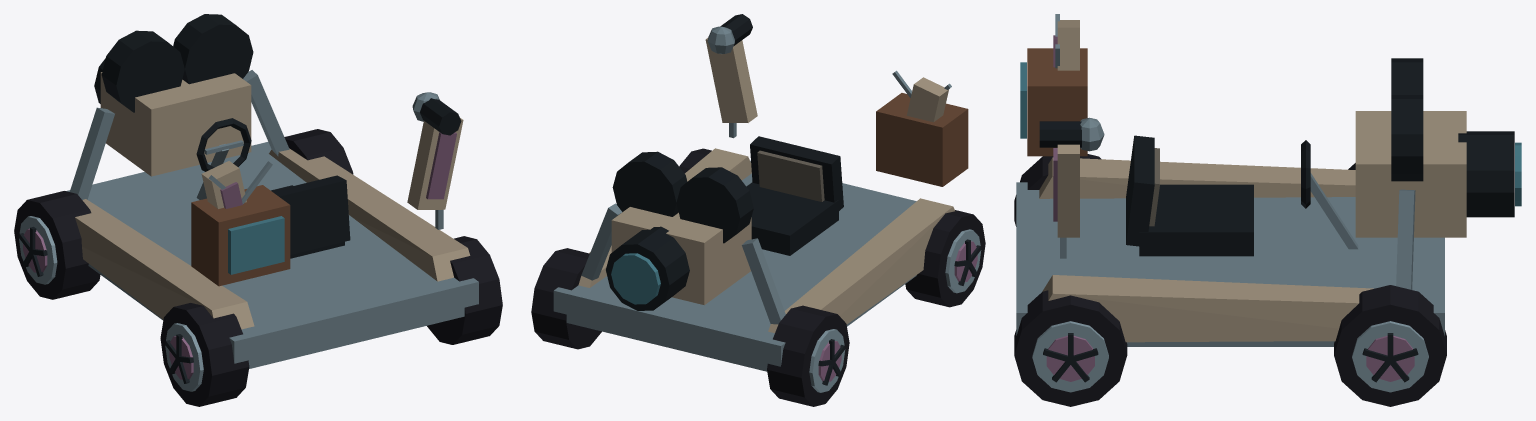
File: kart.glb
3 views of the same model, side by side, from view 1: azimuth 30°, elevation 25°; view 2: azimuth 150°, elevation 25°; view 3: azimuth 270°, elevation 25° (orthographic). The views are drawn at different scales.
Visible parts, largest first — view 1: identity-camera-rig-camera-dolly-and-lens, identity-camera-rig-motif-television, wheel-rear-left, wheel-front-left, identity-camera-rig-driver-cockpit, identity-camera-rig-motif-ears, wheel-rear-right, wheel-front-right, identity-camera-rig-motif-microphone; view 2: identity-camera-rig-camera-dolly-and-lens, identity-camera-rig-driver-cockpit, identity-camera-rig-motif-television, wheel-front-left, wheel-rear-left, identity-camera-rig-motif-ears, wheel-front-right, identity-camera-rig-motif-microphone; view 3: identity-camera-rig-camera-dolly-and-lens, identity-camera-rig-driver-cockpit, wheel-front-right, wheel-rear-right, identity-camera-rig-motif-television, identity-camera-rig-motif-ears, identity-camera-rig-motif-microphone, wheel-rear-left.
Boxes of the visible parts, x1,y1,x2,y2 form: identity-camera-rig-camera-dolly-and-lens: [66, 14, 478, 368]; identity-camera-rig-motif-television: [191, 161, 290, 286]; wheel-rear-left: [160, 303, 249, 406]; wheel-front-left: [14, 191, 100, 299]; identity-camera-rig-driver-cockpit: [196, 118, 350, 258]; identity-camera-rig-motif-ears: [201, 118, 463, 209]; wheel-rear-right: [427, 236, 502, 344]; wheel-front-right: [284, 129, 353, 174]; identity-camera-rig-motif-microphone: [412, 92, 461, 229]; identity-camera-rig-camera-dolly-and-lens: [553, 148, 954, 371]; identity-camera-rig-driver-cockpit: [746, 136, 843, 255]; identity-camera-rig-motif-television: [876, 70, 968, 186]; wheel-front-left: [767, 305, 849, 406]; wheel-rear-left: [905, 210, 985, 307]; identity-camera-rig-motif-ears: [705, 38, 948, 122]; wheel-front-right: [531, 248, 601, 349]; identity-camera-rig-motif-microphone: [707, 14, 752, 138]; identity-camera-rig-camera-dolly-and-lens: [1016, 58, 1521, 346]; identity-camera-rig-driver-cockpit: [1126, 135, 1358, 256]; wheel-front-right: [1334, 285, 1446, 406]; wheel-rear-right: [1014, 290, 1127, 406]; identity-camera-rig-motif-television: [1020, 14, 1087, 156]; identity-camera-rig-motif-ears: [1053, 20, 1079, 237]; identity-camera-rig-motif-microphone: [1039, 117, 1104, 258]; wheel-rear-left: [1014, 154, 1101, 226].
Size of the model in its own units: 2.07 by 1.57 by 2.7.
